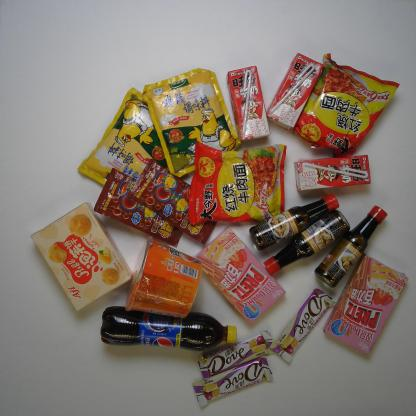Candy: (124, 142, 218, 245), (85, 162, 187, 250)
Chocolate: (186, 326, 282, 382), (273, 284, 340, 362), (186, 357, 282, 406)
Dessert: (25, 196, 136, 324), (314, 252, 412, 362), (188, 226, 285, 326)
Drink: (91, 304, 253, 356)
Instant Noodles: (293, 43, 402, 158), (181, 124, 296, 229), (124, 223, 203, 324)
Milk: (214, 60, 281, 148), (288, 150, 392, 197), (266, 50, 322, 135)
Seasoner: (135, 66, 244, 180), (67, 84, 167, 198), (314, 191, 402, 288), (260, 212, 352, 270), (244, 191, 340, 240)
